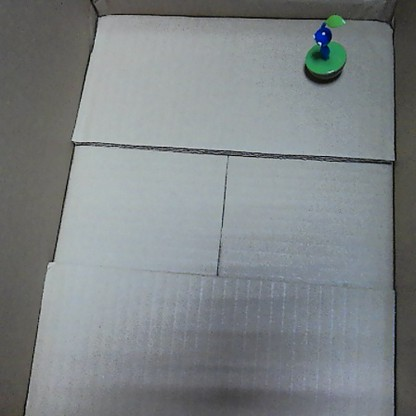leafairy: (301, 9, 349, 84)
